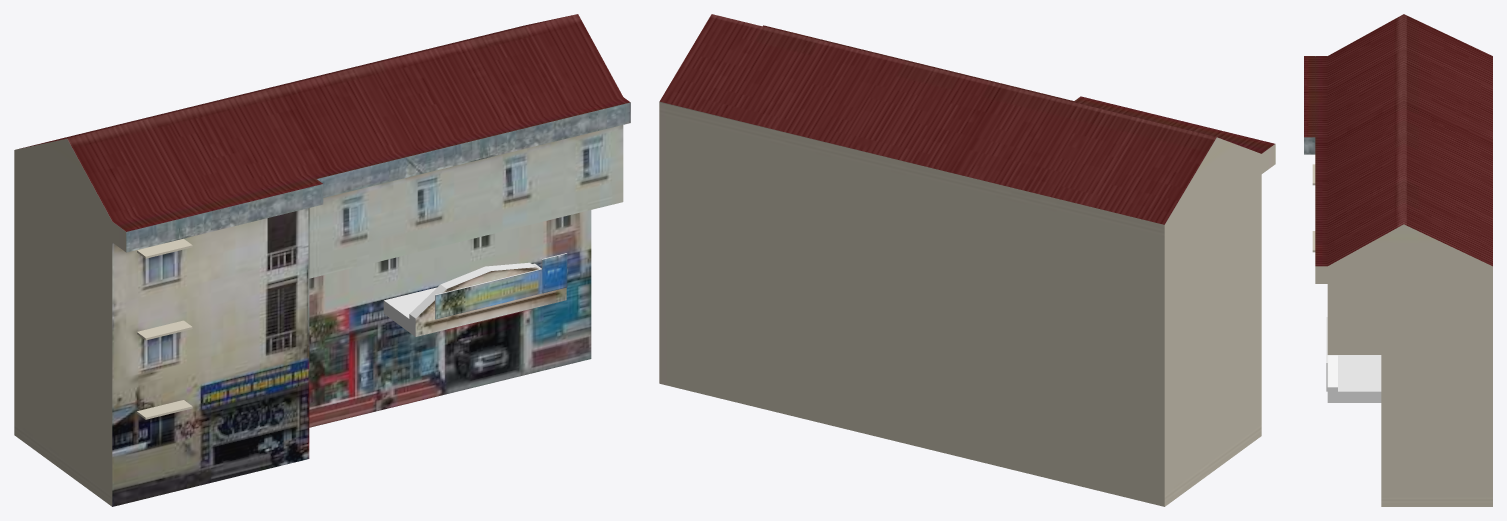
3 renders of one model, left to right at view 1: azimuth 30°, elevation 25°; view 2: azimuth 150°, elevation 25°; view 3: azimuth 270°, elevation 25°, orthographic. The views are drawn at different scales.
Visible parts, largest first — view 1: HN951_HN952___Phong_Kham_Rang_Ham_Mat_Phong_Kham_Da_Khoa; view 2: HN951_HN952___Phong_Kham_Rang_Ham_Mat_Phong_Kham_Da_Khoa; view 3: HN951_HN952___Phong_Kham_Rang_Ham_Mat_Phong_Kham_Da_Khoa.
Part boxes in pixels (box(x1,y1,x2,y2)): HN951_HN952___Phong_Kham_Rang_Ham_Mat_Phong_Kham_Da_Khoa: box(14, 14, 630, 506); HN951_HN952___Phong_Kham_Rang_Ham_Mat_Phong_Kham_Da_Khoa: box(659, 14, 1275, 506); HN951_HN952___Phong_Kham_Rang_Ham_Mat_Phong_Kham_Da_Khoa: box(1304, 14, 1492, 506).
Bounding box in the file's own units: 21 × 13.16 × 7.97.
1 material, 1 textured.
